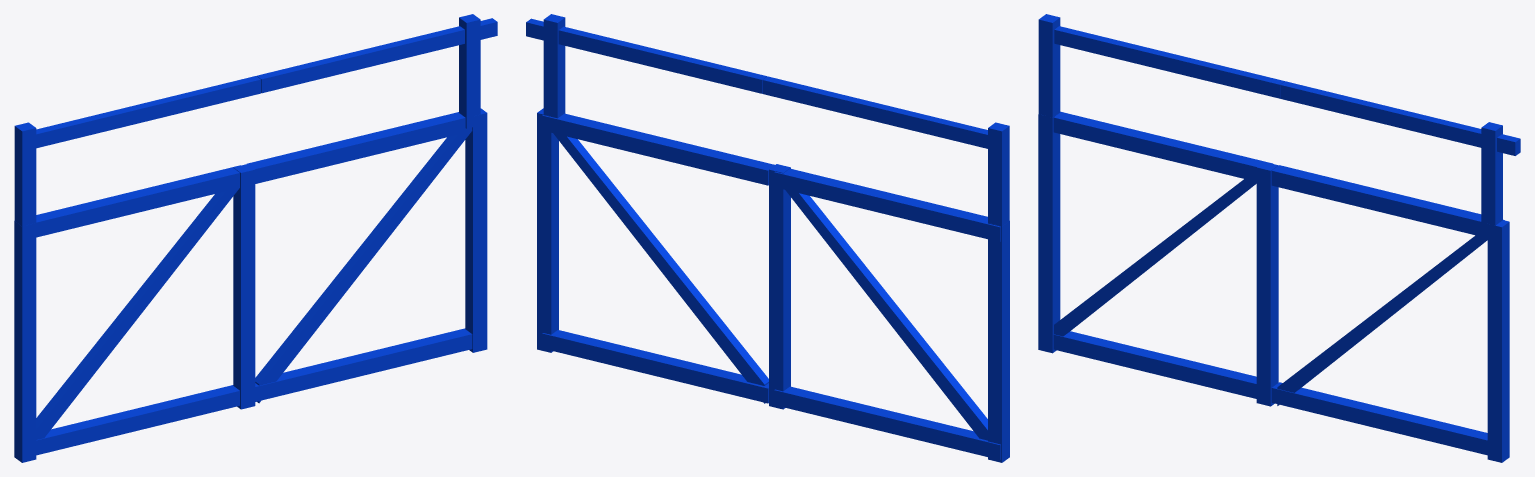
Rendered from Bastion_Wall_01A.fbx.
3 views of the same model, side by side, from view 1: azimuth 30°, elevation 25°; view 2: azimuth 150°, elevation 25°; view 3: azimuth 330°, elevation 25° (orthographic).
Visible parts, largest first — view 1: Bastion_Wall_01A; view 2: Bastion_Wall_01A; view 3: Bastion_Wall_01A.
Boxes of the visible parts, x1,y1,x2,y2 form: Bastion_Wall_01A: (14, 14, 497, 462); Bastion_Wall_01A: (526, 14, 1009, 462); Bastion_Wall_01A: (1038, 14, 1520, 462).
Size of the model in its own units: 632 by 420 by 19.78.
